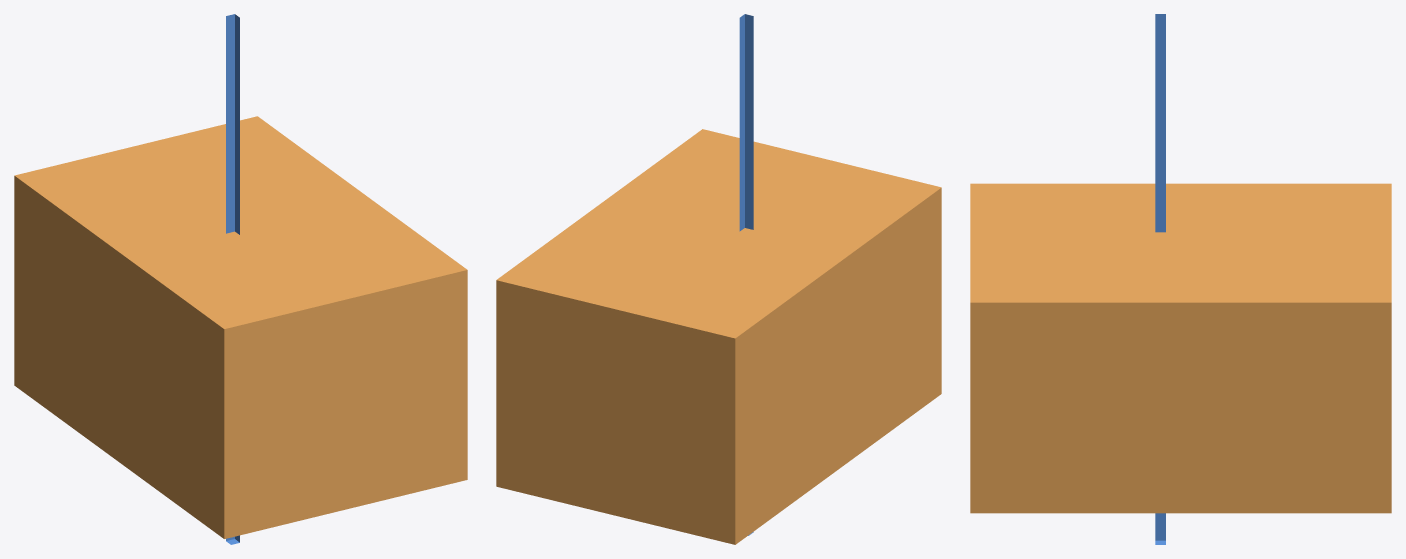
Rendered from box_mocap_push_case2_MWVOPT_20260331000134_20260331000134_1_1776074885.glb.
The picture shows the model from 3 angles, left to right: view 1: azimuth 30°, elevation 25°; view 2: azimuth 150°, elevation 25°; view 3: azimuth 270°, elevation 25°; orthographic projection. The views are drawn at different scales.
Parts seen in each view (by area): view 1: prop_Box_K_1, bvh_bone_Hips_to_Spine; view 2: prop_Box_K_1, bvh_bone_Hips_to_Spine; view 3: prop_Box_K_1, bvh_bone_Hips_to_Spine.
Part boxes in pixels (box(x1,y1,x2,y2)): prop_Box_K_1: box(14, 116, 467, 538); bvh_bone_Hips_to_Spine: box(226, 14, 239, 544); prop_Box_K_1: box(496, 129, 941, 544); bvh_bone_Hips_to_Spine: box(739, 14, 753, 535); prop_Box_K_1: box(970, 183, 1391, 513); bvh_bone_Hips_to_Spine: box(1155, 14, 1165, 544).
Size of the model in its own units: 0.485 by 1 by 0.725.
